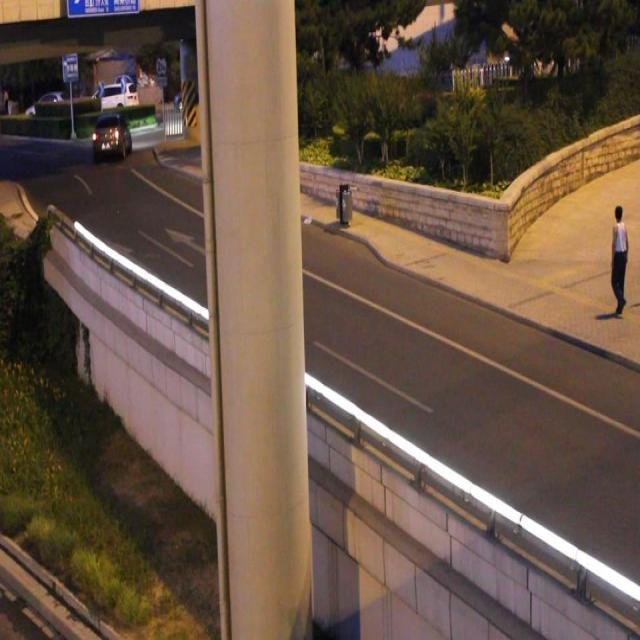car: (94, 114, 132, 156)
